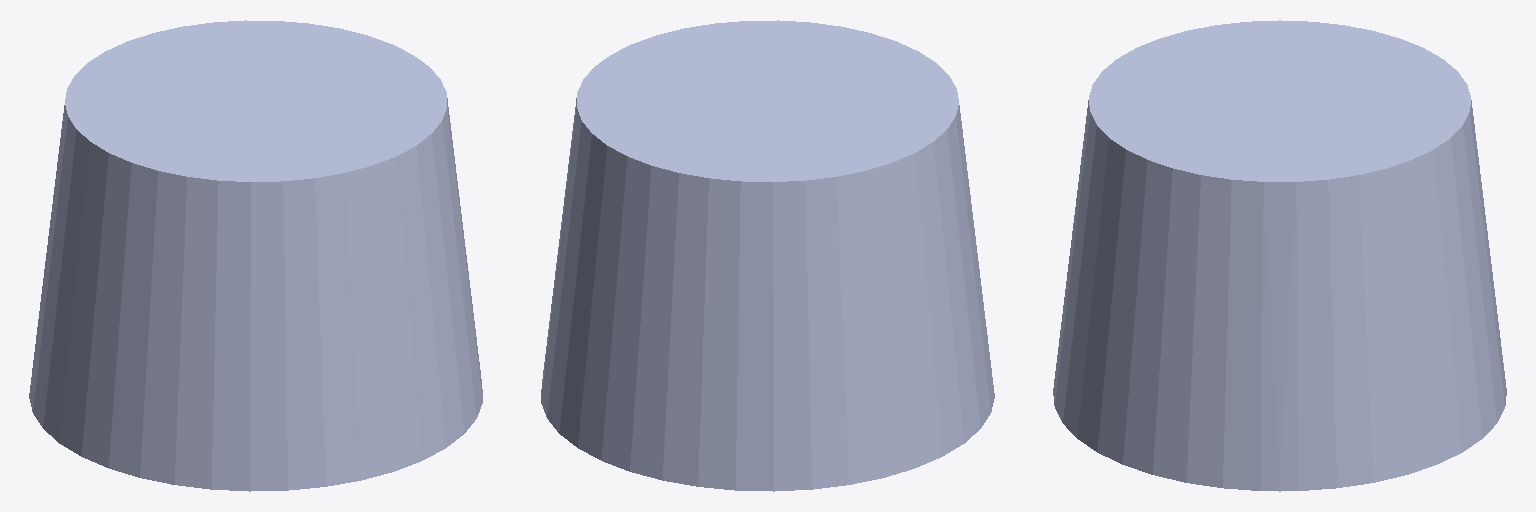
The robot description file, URDF, robot "onelink_robot":
<?xml version="1.0" encoding="utf-8"?>
<!-- This URDF was automatically created by SolidWorks to URDF Exporter! Originally created by [author] ([email redacted]) 
     Commit Version:   Build Version: 1.5.7817.18516
     For more information, please see http://wiki.ros.org/sw_urdf_exporter -->
<robot
  name="onelink_robot">
  <link
    name="base_link">
    <inertial>
      <origin
        xyz="8.7018E-07 2.7995E-08 0.047164"
        rpy="0 0 0" />
      <mass
        value="1.3101" />
      <inertia
        ixx="0.0024623"
        ixy="3.2088E-09"
        ixz="2.422E-09"
        iyy="0.0024625"
        iyz="-4.6557E-09"
        izz="0.0027581" />
    </inertial>
    <visual>
      <origin
        xyz="0 0 0"
        rpy="0 0 0" />
      <geometry>
        <mesh
          filename="package://onelink_robot/meshes/base_link.STL" />
      </geometry>
      <material
        name="">
        <color
          rgba="0.79216 0.81961 0.93333 1" />
      </material>
    </visual>
    <collision>
      <origin
        xyz="0 0 0"
        rpy="0 0 0" />
      <geometry>
        <mesh
          filename="package://onelink_robot/meshes/base_link.STL" />
      </geometry>
    </collision>
  </link>
  <link
    name="link_1">
    <inertial>
      <origin
        xyz="-0.30846 -0.007069 -0.0093247"
        rpy="0 0 0" />
      <mass
        value="4.5602" />
      <inertia
        ixx="0.0089629"
        ixy="-0.001234"
        ixz="-0.0059844"
        iyy="0.06278"
        iyz="-0.00013714"
        izz="0.061068" />
    </inertial>
    <visual>
      <origin
        xyz="0 0 0"
        rpy="0 0 0" />
      <geometry>
        <mesh
          filename="package://onelink_robot/meshes/link_1.STL" />
      </geometry>
      <material
        name="">
        <color
          rgba="1 0.93725 0.13725 1" />
      </material>
    </visual>
    <collision>
      <origin
        xyz="0 0 0"
        rpy="0 0 0" />
      <geometry>
        <mesh
          filename="package://onelink_robot/meshes/link_1.STL" />
      </geometry>
    </collision>
  </link>
  <joint
    name="joint_1"
    type="continuous">
    <origin
      xyz="0.45811 0.010499 0.195"
      rpy="0 0 0" />
    <parent
      link="base_link" />
    <child
      link="link_1" />
    <axis
      xyz="0 0 1" />
  </joint>
</robot>

--- What the picture shows (computed from the rendered views, not written in the file) ---
The picture shows the robot from 3 angles, left to right: view 1: azimuth 30°, elevation 25°; view 2: azimuth 150°, elevation 25°; view 3: azimuth 270°, elevation 25°; orthographic projection.
Model onelink_robot with 2 links and 1 joints (1 continuous), rooted at base_link, posed all joints at 0.
Links seen in each view (by area): view 1: base_link; view 2: base_link; view 3: base_link.
Link boxes in pixels (x1,y1,x2,y2): base_link: (29,20,482,491); base_link: (541,20,994,491); base_link: (1053,20,1506,491).
Size in the robot's own frame: 0.14 by 0.1399 by 0.1 metres.
Meshes: 2 distinct files referenced, 1 mesh visuals loaded (1 binary STL); not drawn: 1 (reference not matched to a file when rendering).